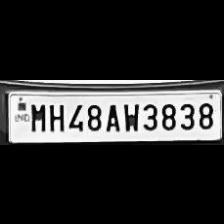3: (140, 99, 158, 131), (178, 98, 195, 130)
4: (65, 98, 83, 132)
8: (194, 98, 214, 130), (84, 99, 103, 130), (158, 98, 176, 130)
A: (103, 99, 121, 130)
H: (46, 100, 64, 132)
M: (28, 100, 46, 132)
W: (119, 99, 138, 131)
